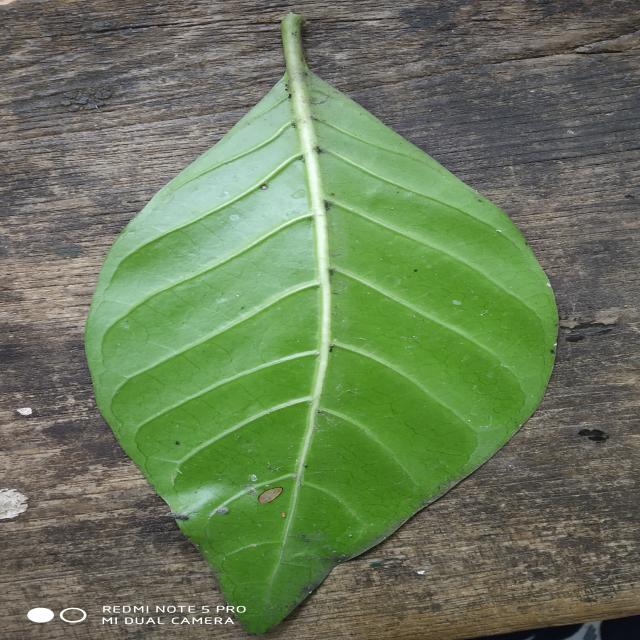nooni: (84, 15, 558, 634)
